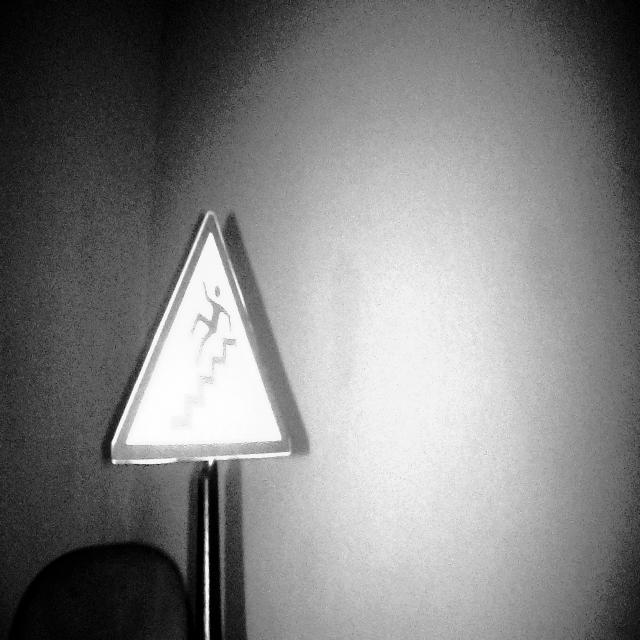Sign: (108, 206, 293, 468)
